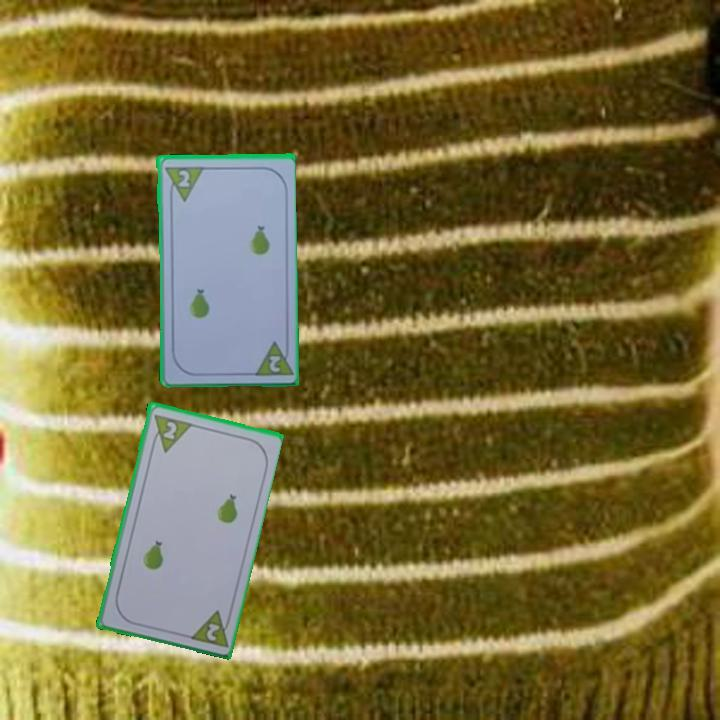2p: (185, 605, 234, 650), (249, 336, 294, 378), (161, 162, 204, 203), (159, 417, 180, 442)
